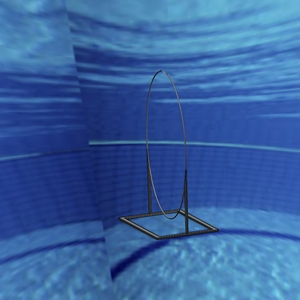circle: (116, 68, 220, 242)
